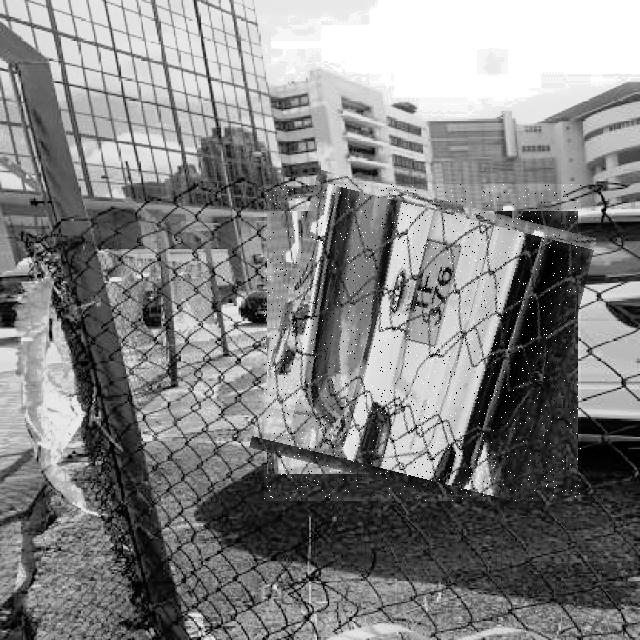anomaly-fence: (264, 184, 581, 501)
